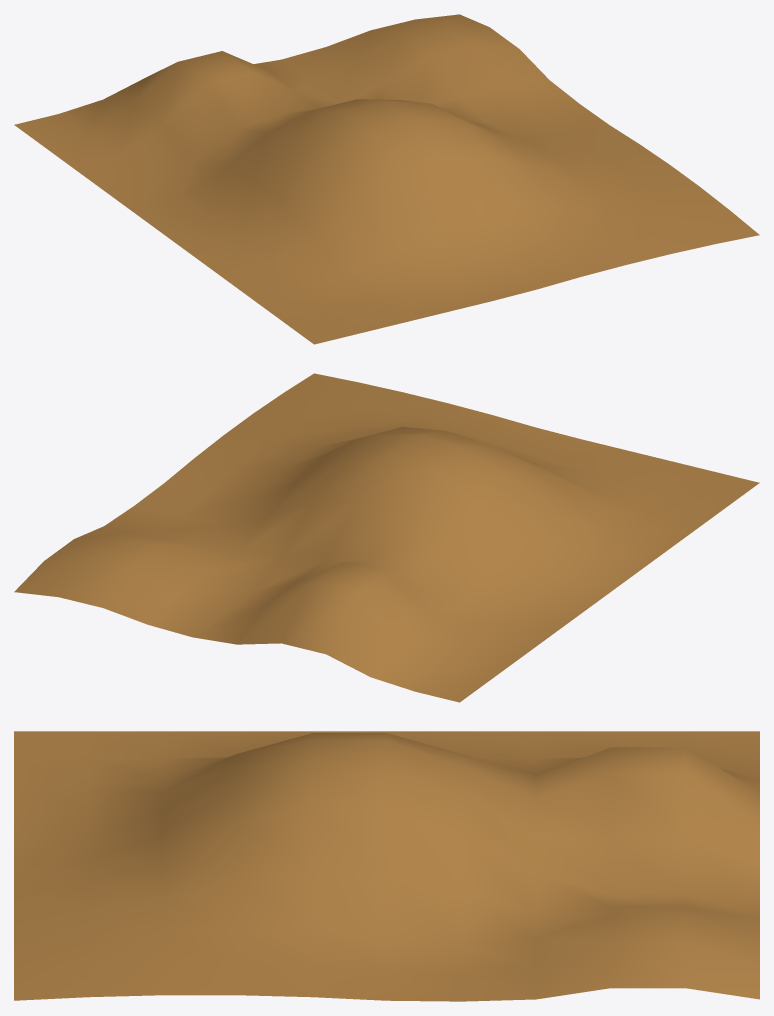
Rendered from Sand.fbx.
3 views of the same model, one above another, from view 1: azimuth 30°, elevation 25°; view 2: azimuth 150°, elevation 25°; view 3: azimuth 270°, elevation 25° (orthographic). The views are drawn at different scales.
Visible parts, largest first — view 1: Plane007; view 2: Plane007; view 3: Plane007.
Boxes of the visible parts, x1,y1,x2,y2 form: Plane007: (14, 14, 759, 344); Plane007: (14, 373, 759, 702); Plane007: (14, 731, 759, 1001).
Bounding box in the file's own units: 520 × 90.44 × 606.
